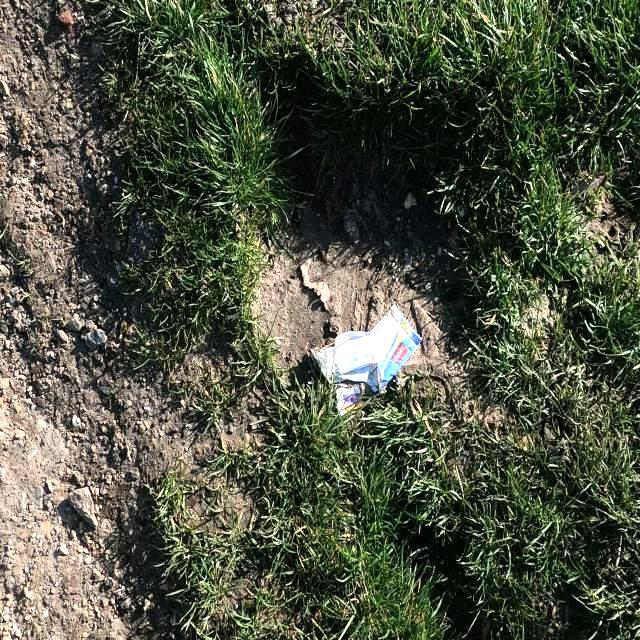Plastic: (310, 304, 422, 416)
